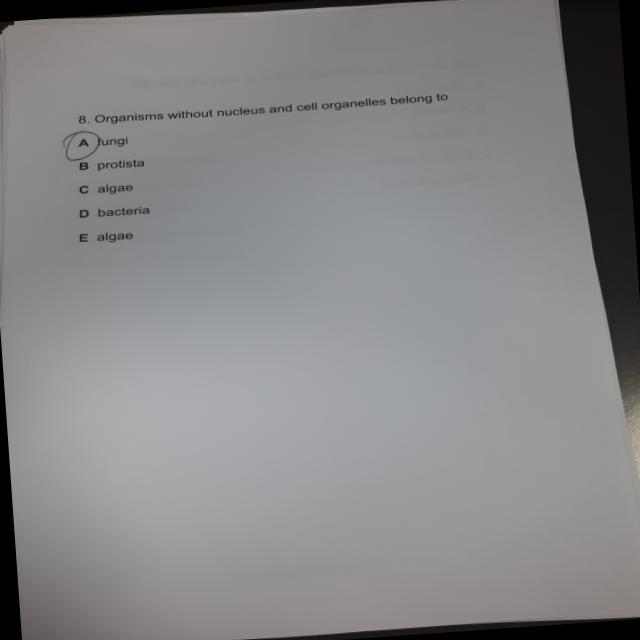A: (62, 127, 103, 162)
